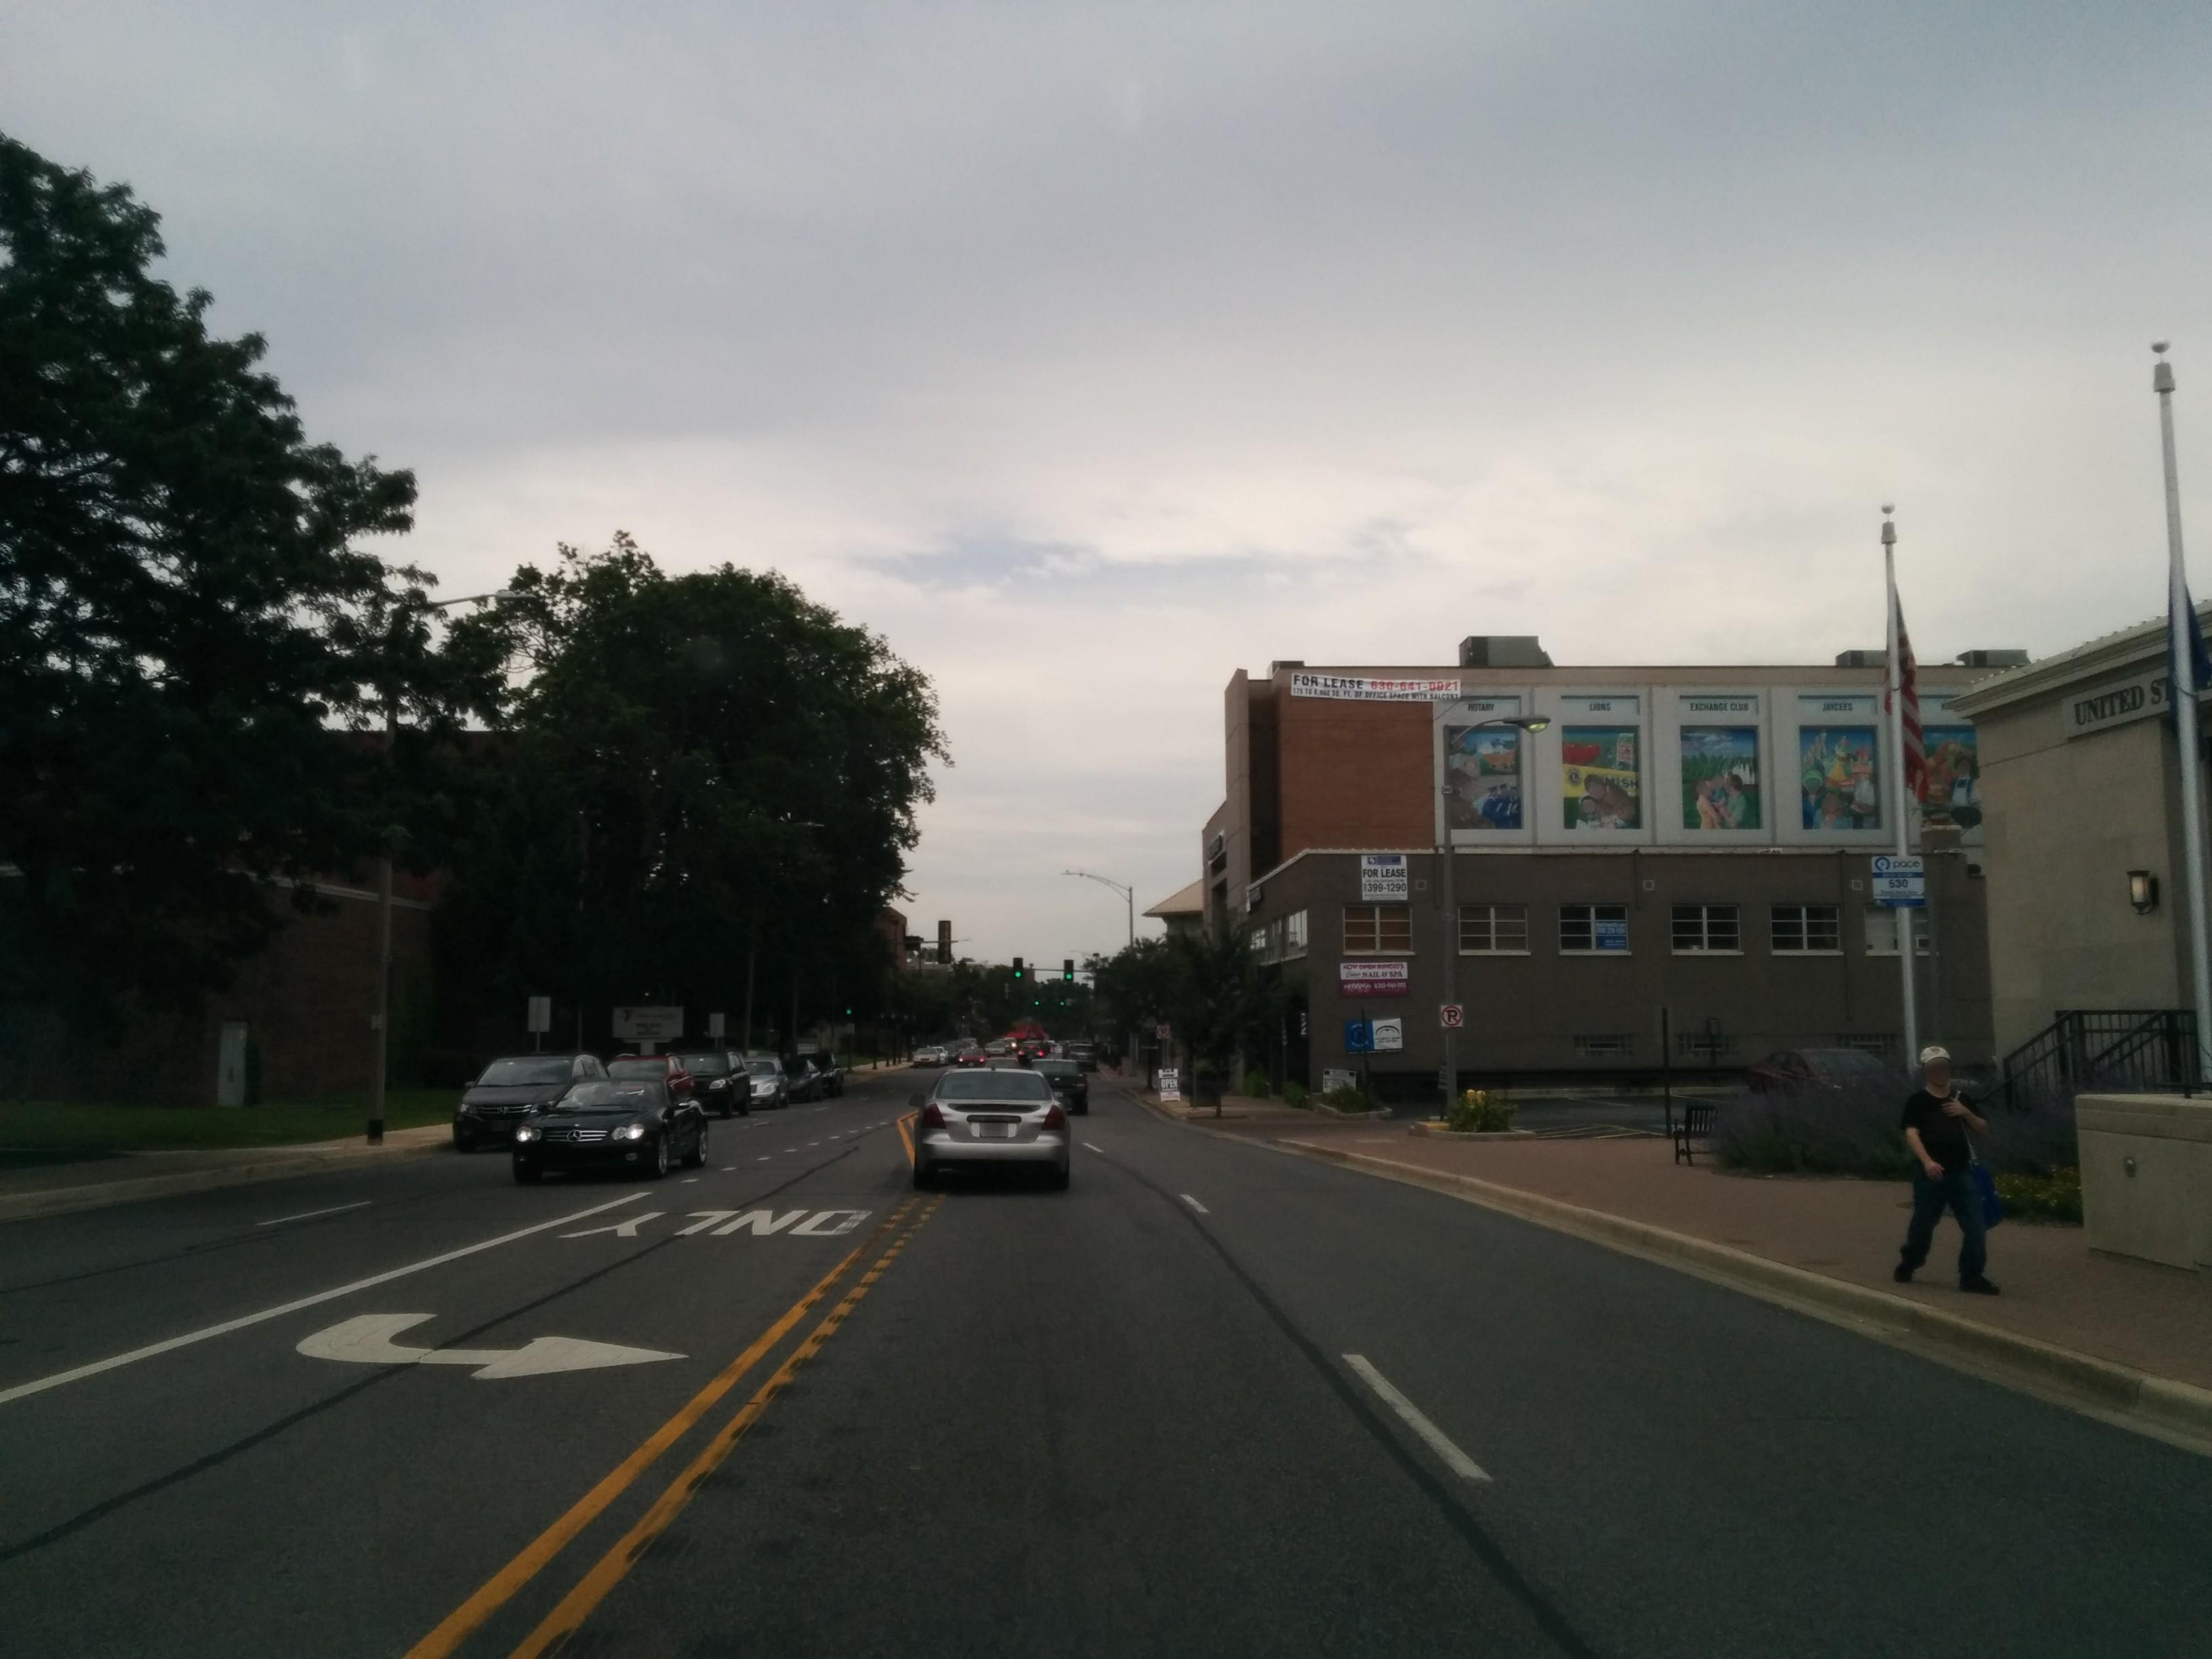vinyl banner: (1280, 662, 1474, 718), (1331, 948, 1420, 997), (1353, 847, 1418, 904)
